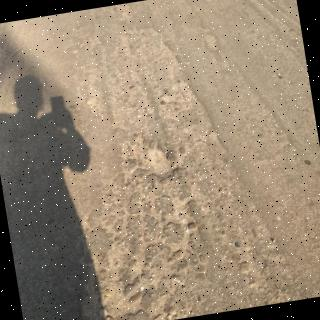pothole: (137, 145, 176, 179)
